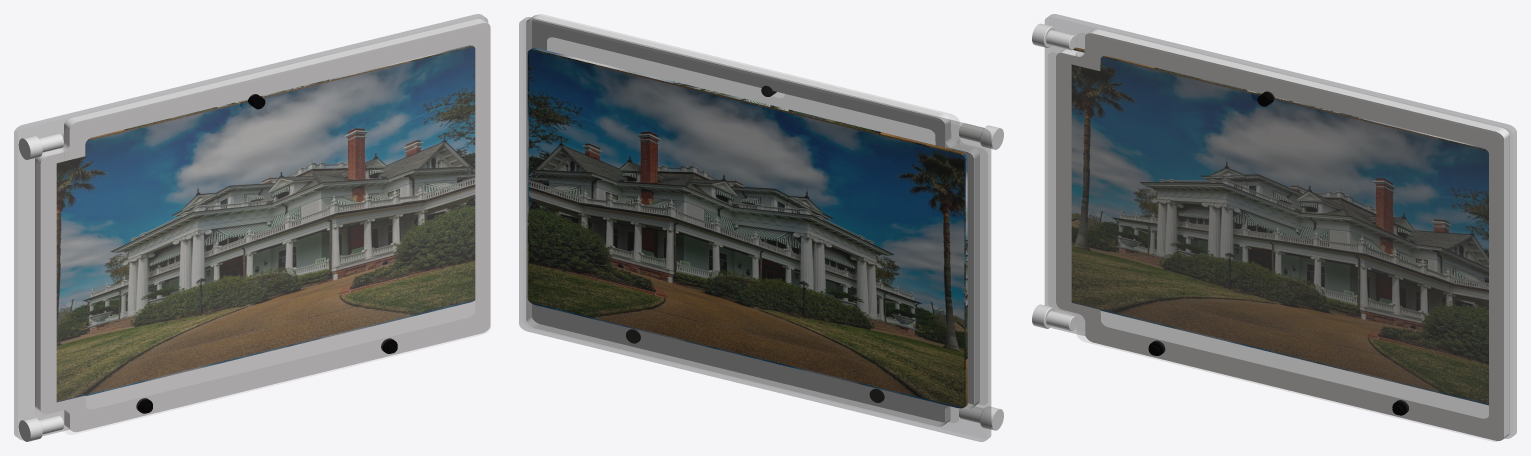
Rendered from a4landslf8.glb.
3 renders of one model, left to right at view 1: azimuth 30°, elevation 25°; view 2: azimuth 150°, elevation 25°; view 3: azimuth 330°, elevation 25°, orthographic.
Visible parts, largest first — view 1: a4horzoneinittwo.001; view 2: a4horzoneinittwo.001; view 3: a4horzoneinittwo.001.
Boxes of the visible parts, bbox=[...] form: a4horzoneinittwo.001: bbox=[14, 14, 490, 441]; a4horzoneinittwo.001: bbox=[519, 14, 1003, 441]; a4horzoneinittwo.001: bbox=[1032, 14, 1516, 441].
Bounding box in the file's own units: 0.298 × 0.1892 × 0.0183.
6 materials, 1 textured.
